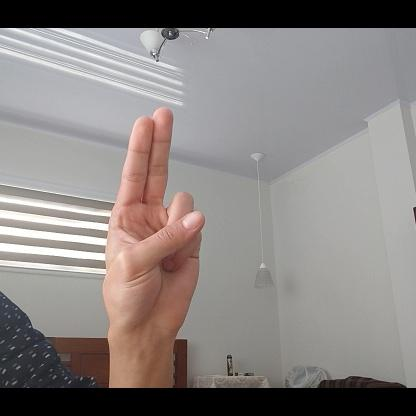U: (105, 108, 206, 343)
